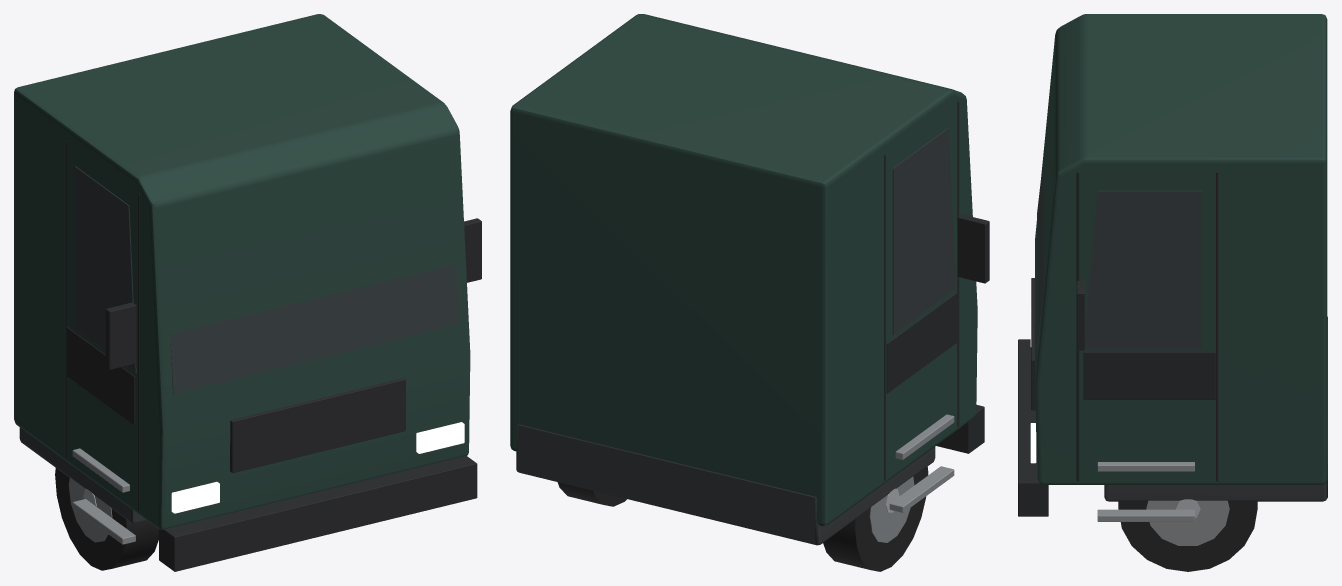
Rendered from veh_armored_cab_bullion.glb.
3 views of the same model, side by side, from view 1: azimuth 30°, elevation 25°; view 2: azimuth 150°, elevation 25°; view 3: azimuth 270°, elevation 25° (orthographic). The views are drawn at different scales.
Visible parts, largest first — view 1: Body, Wheels, CabDoorLMesh; view 2: Body, Wheels, CabDoorLMesh; view 3: Body, Wheels, CabDoorRMesh.
Part boxes in pixels (x1,y1,x2,y2): Body: (14, 14, 481, 571); Wheels: (55, 468, 158, 570); CabDoorLMesh: (66, 327, 135, 425); Body: (510, 14, 989, 545); Wheels: (557, 466, 928, 571); CabDoorLMesh: (886, 292, 956, 393); Body: (1018, 14, 1327, 521); Wheels: (1118, 499, 1257, 571); CabDoorRMesh: (1083, 352, 1215, 399).
Size of the model in its own units: 3 by 3.3 by 2.22.
